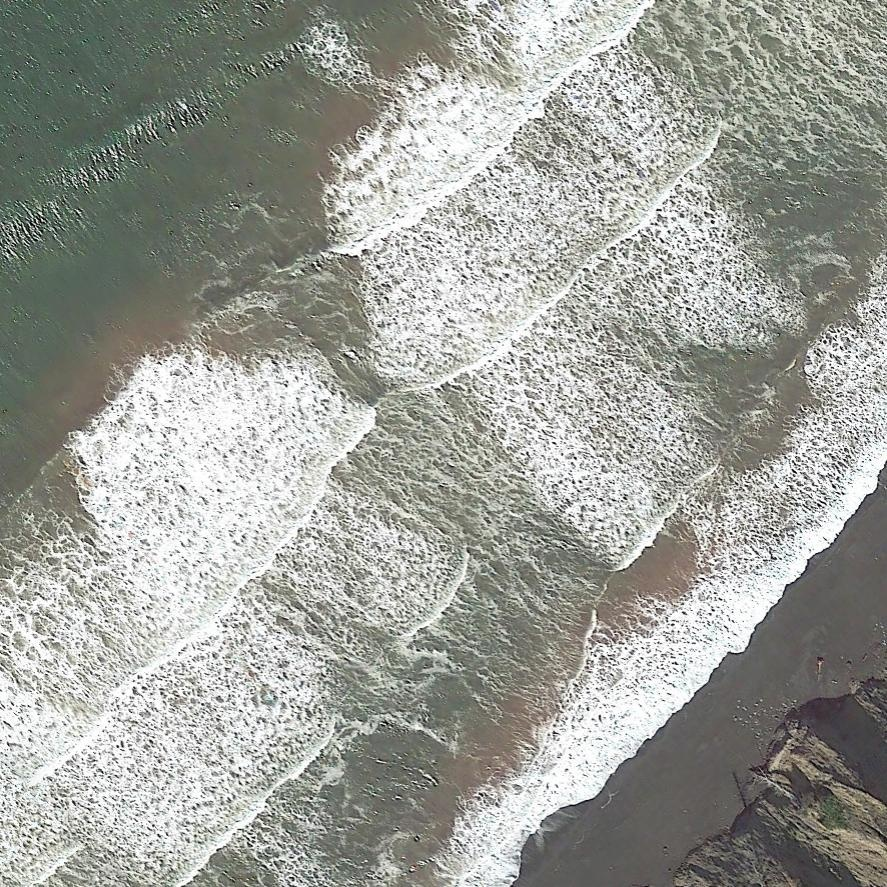rip_current: (185, 239, 617, 610)
